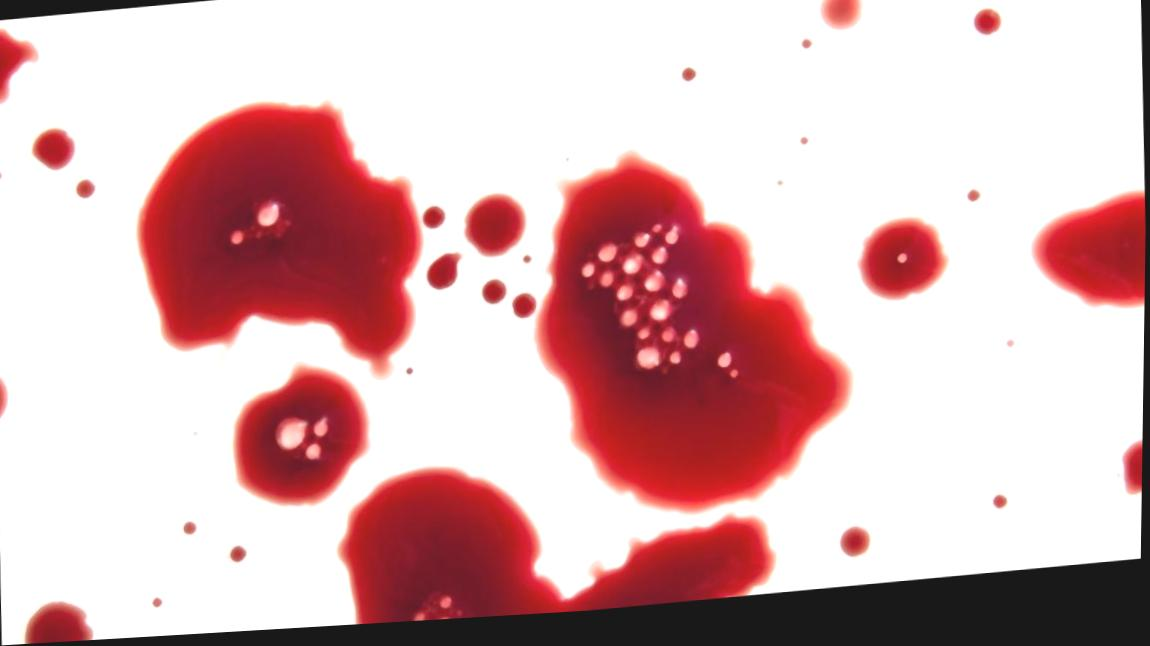Fire: (534, 156, 855, 521), (137, 103, 425, 384), (338, 470, 778, 629), (234, 364, 372, 509), (1031, 203, 1146, 321), (858, 227, 950, 311), (464, 198, 528, 263), (26, 600, 95, 644), (0, 27, 39, 103), (31, 127, 76, 170), (820, 0, 864, 40), (427, 257, 464, 294), (1123, 452, 1144, 508), (842, 536, 873, 567), (974, 19, 1002, 47), (512, 298, 538, 324), (482, 284, 508, 310), (423, 210, 446, 234), (0, 374, 10, 420), (232, 547, 249, 565), (184, 523, 198, 536)
